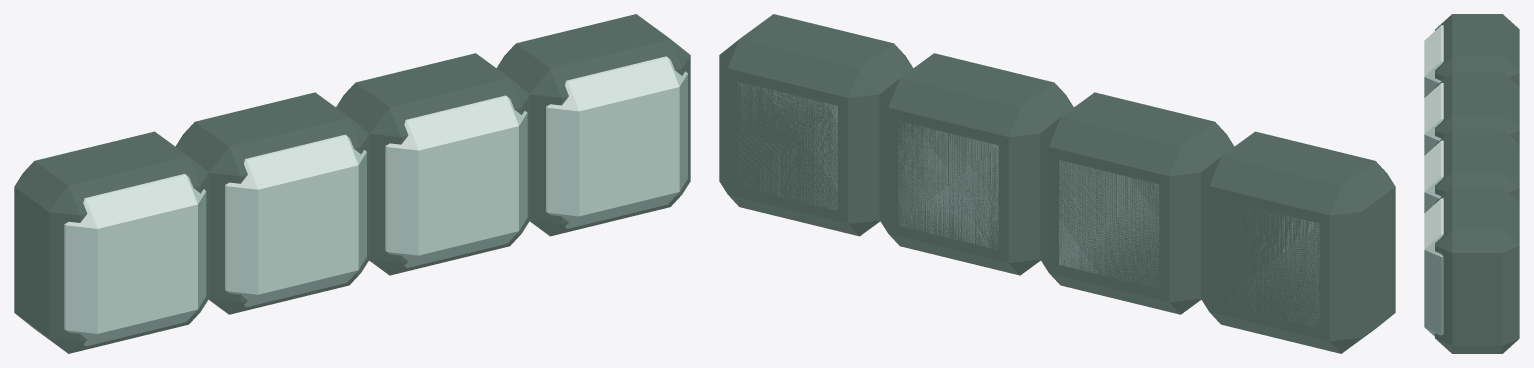
Rendered from Terrain_Block4x1.gltf.
The picture shows the model from 3 angles, left to right: view 1: azimuth 30°, elevation 25°; view 2: azimuth 150°, elevation 25°; view 3: azimuth 270°, elevation 25°; orthographic projection. The views are drawn at different scales.
Visible parts, largest first — view 1: Terrain_Block4x1_baked; view 2: Terrain_Block4x1_baked; view 3: Terrain_Block4x1_baked.
Boxes of the visible parts, x1=… form: Terrain_Block4x1_baked: x1=14, y1=14, x2=690, y2=353; Terrain_Block4x1_baked: x1=719, y1=14, x2=1395, y2=353; Terrain_Block4x1_baked: x1=1424, y1=14, x2=1519, y2=353.
Size of the model in its own units: 4 by 1 by 0.7.
